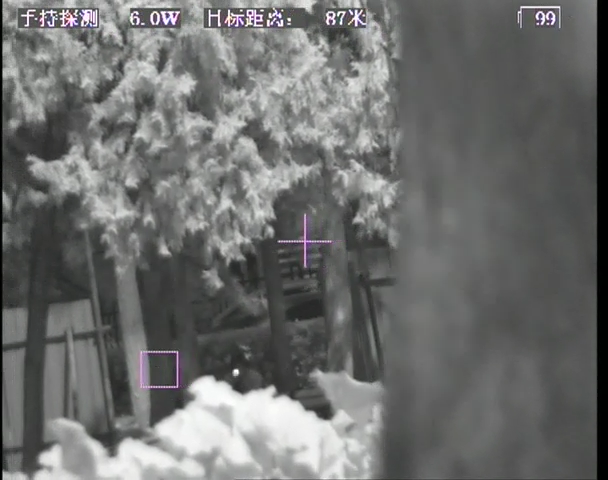my: (229, 366, 242, 378)
